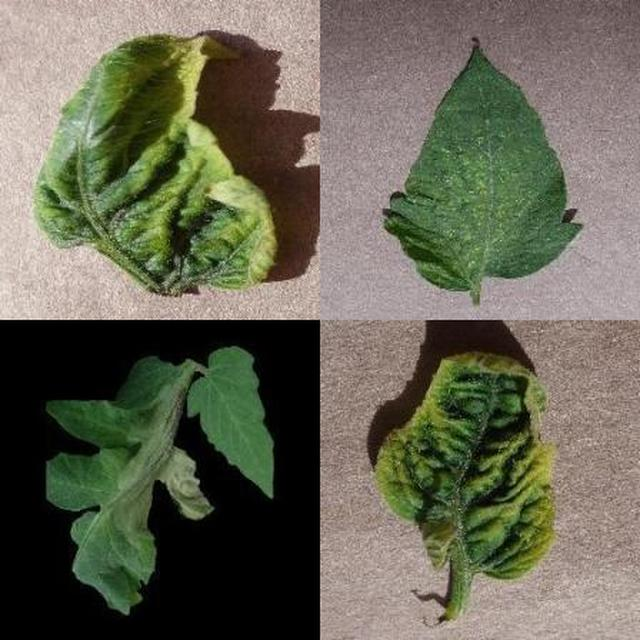Yellow Leaf Curl Virus: (130, 218, 640, 640)
